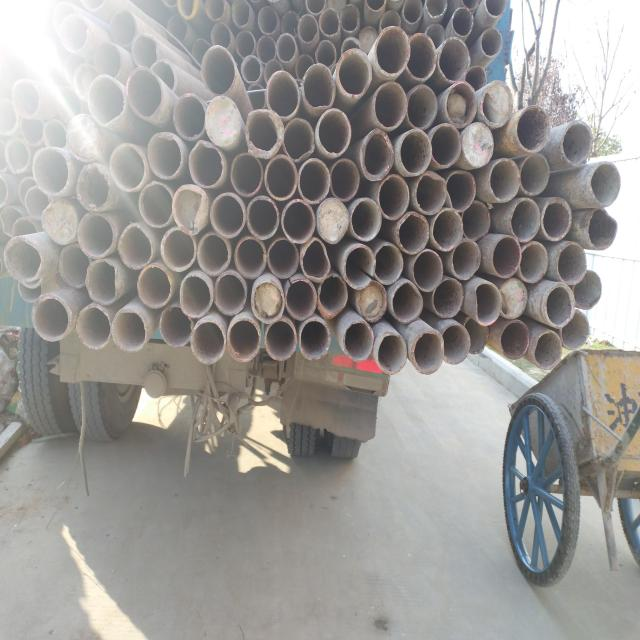pipe: (86, 73, 126, 128), (125, 64, 164, 120), (243, 108, 284, 160), (171, 183, 211, 236), (30, 293, 72, 343), (334, 47, 373, 100), (373, 26, 412, 78), (199, 45, 238, 97), (31, 145, 70, 197), (360, 126, 396, 182), (76, 211, 117, 260), (75, 162, 114, 213), (109, 142, 148, 193), (204, 95, 242, 147), (65, 112, 103, 164), (264, 69, 301, 121), (160, 224, 200, 272), (187, 138, 225, 188), (316, 106, 352, 158), (208, 191, 247, 239), (172, 91, 208, 143), (3, 236, 42, 284), (137, 180, 175, 229), (373, 79, 408, 132), (443, 79, 479, 130), (116, 222, 154, 270), (478, 79, 515, 128), (146, 131, 183, 180), (397, 127, 433, 177), (410, 328, 446, 378), (314, 196, 350, 246), (515, 104, 551, 153), (84, 257, 120, 306), (263, 152, 298, 202), (109, 306, 147, 352), (75, 303, 112, 350), (41, 198, 78, 245), (301, 62, 337, 110), (57, 242, 93, 290), (542, 280, 576, 330), (280, 197, 316, 244), (244, 194, 280, 241), (406, 31, 439, 82), (297, 157, 332, 205), (189, 320, 226, 365), (283, 276, 319, 322), (212, 271, 248, 317), (195, 232, 231, 278), (342, 243, 377, 290), (508, 196, 542, 244), (437, 35, 471, 83), (428, 122, 462, 170), (136, 264, 172, 309), (377, 173, 410, 222), (227, 317, 262, 363), (178, 272, 213, 318), (588, 161, 622, 208), (431, 205, 465, 252), (228, 151, 262, 198), (560, 120, 593, 168), (518, 150, 551, 198), (461, 121, 494, 169), (406, 83, 439, 131), (251, 279, 285, 325), (158, 305, 193, 349), (396, 210, 430, 255), (349, 197, 383, 242), (266, 236, 300, 281), (317, 272, 348, 321), (488, 157, 521, 203), (391, 280, 424, 326), (282, 116, 315, 162), (540, 196, 572, 243), (375, 332, 409, 376), (234, 236, 268, 280), (472, 280, 503, 328), (301, 236, 332, 284), (445, 168, 477, 214), (329, 156, 361, 202), (414, 173, 448, 216), (496, 277, 529, 321), (556, 241, 588, 286), (372, 241, 404, 286), (431, 278, 465, 320), (298, 318, 332, 360), (58, 12, 92, 54), (587, 206, 618, 252), (449, 238, 482, 281), (412, 248, 444, 292), (439, 322, 471, 366), (358, 280, 390, 324), (570, 268, 603, 310), (498, 319, 531, 361), (342, 320, 374, 363), (264, 318, 296, 361), (460, 198, 491, 242), (558, 309, 590, 351), (91, 39, 122, 82), (492, 234, 522, 278), (9, 78, 42, 118), (106, 8, 137, 50), (518, 241, 548, 284), (460, 314, 490, 354), (130, 31, 158, 72), (148, 57, 179, 94), (72, 63, 100, 103), (3, 136, 32, 174), (23, 184, 51, 221), (41, 117, 69, 152), (18, 115, 45, 148), (0, 204, 24, 238), (164, 13, 190, 44), (209, 21, 233, 54), (296, 13, 320, 45), (450, 6, 474, 38), (314, 39, 338, 70), (479, 26, 503, 57), (337, 2, 360, 34), (275, 32, 297, 64), (11, 216, 40, 240), (254, 35, 277, 65), (279, 10, 302, 40), (357, 25, 380, 55), (240, 54, 262, 85), (245, 82, 267, 113), (0, 98, 17, 138), (17, 276, 42, 303), (17, 175, 37, 208), (234, 29, 256, 59), (256, 5, 278, 35), (318, 8, 340, 37), (231, 0, 251, 30), (379, 9, 402, 35), (401, 0, 424, 26), (424, 22, 446, 49), (262, 58, 285, 83), (294, 54, 316, 80), (203, 0, 227, 23), (192, 38, 212, 65), (423, 0, 448, 20), (340, 36, 362, 58), (483, 0, 507, 20), (176, 0, 198, 21), (304, 0, 328, 17), (364, 0, 387, 14)
